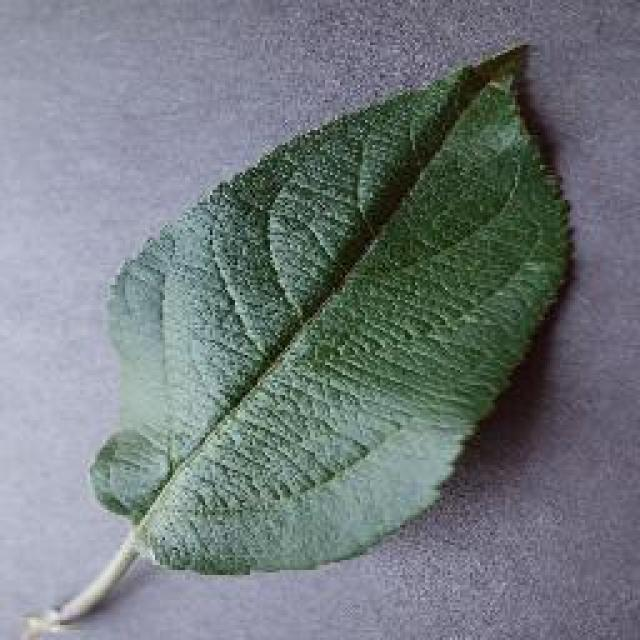apple healthy: (20, 38, 578, 638)
